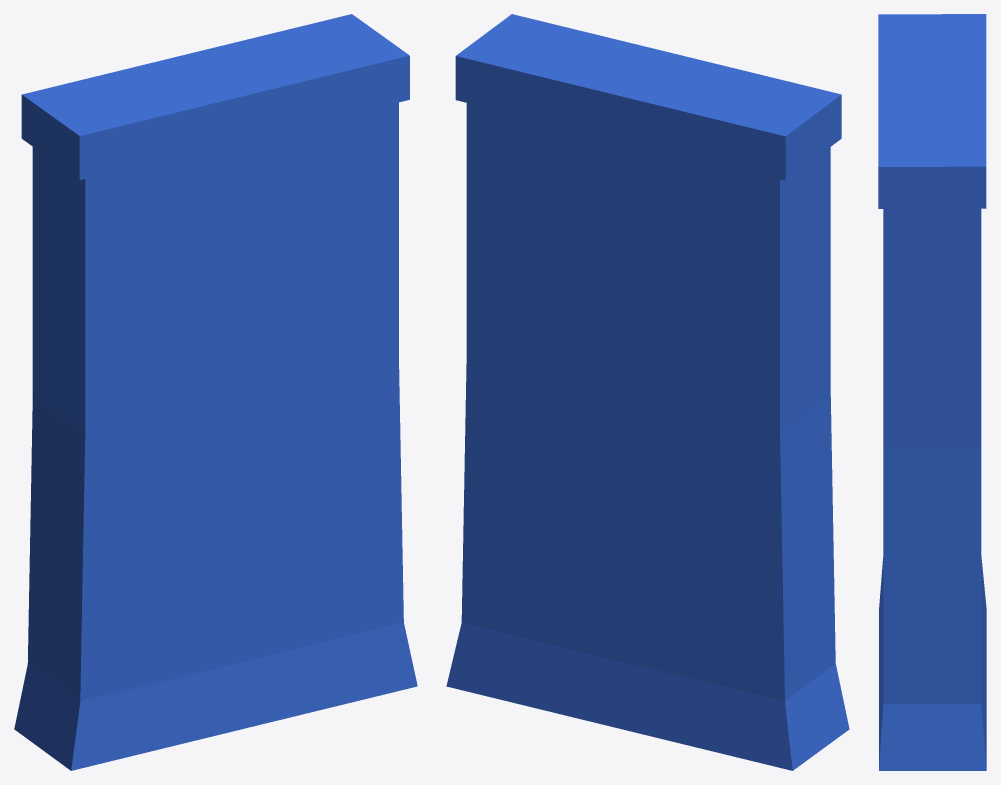
File: Collision_Bookcase_2.fbx
The picture shows the model from 3 angles, left to right: view 1: azimuth 30°, elevation 25°; view 2: azimuth 150°, elevation 25°; view 3: azimuth 270°, elevation 25°; orthographic projection. The views are drawn at different scales.
Visible parts, largest first — view 1: UCX_Bookcase_2_2, UCX_Bookcase_2_3, UCX_Bookcase_2_4, UCX_Bookcase_2_1; view 2: UCX_Bookcase_2_2, UCX_Bookcase_2_3, UCX_Bookcase_2_4, UCX_Bookcase_2_1; view 3: UCX_Bookcase_2_2, UCX_Bookcase_2_3, UCX_Bookcase_2_4, UCX_Bookcase_2_1.
Part boxes in pixels (left/top/right/bottom): UCX_Bookcase_2_2: left=27, top=355, right=403, bottom=701; UCX_Bookcase_2_3: left=32, top=102, right=398, bottom=431; UCX_Bookcase_2_4: left=21, top=14, right=409, bottom=179; UCX_Bookcase_2_1: left=14, top=622, right=417, bottom=770; UCX_Bookcase_2_2: left=461, top=355, right=835, bottom=701; UCX_Bookcase_2_3: left=466, top=103, right=830, bottom=431; UCX_Bookcase_2_4: left=455, top=14, right=841, bottom=180; UCX_Bookcase_2_1: left=446, top=622, right=849, bottom=770; UCX_Bookcase_2_2: left=883, top=447, right=981, bottom=703; UCX_Bookcase_2_3: left=883, top=208, right=981, bottom=447; UCX_Bookcase_2_4: left=878, top=14, right=986, bottom=208; UCX_Bookcase_2_1: left=879, top=557, right=986, bottom=770.
Size of the model in its own units: 146 by 256 by 41.93.
